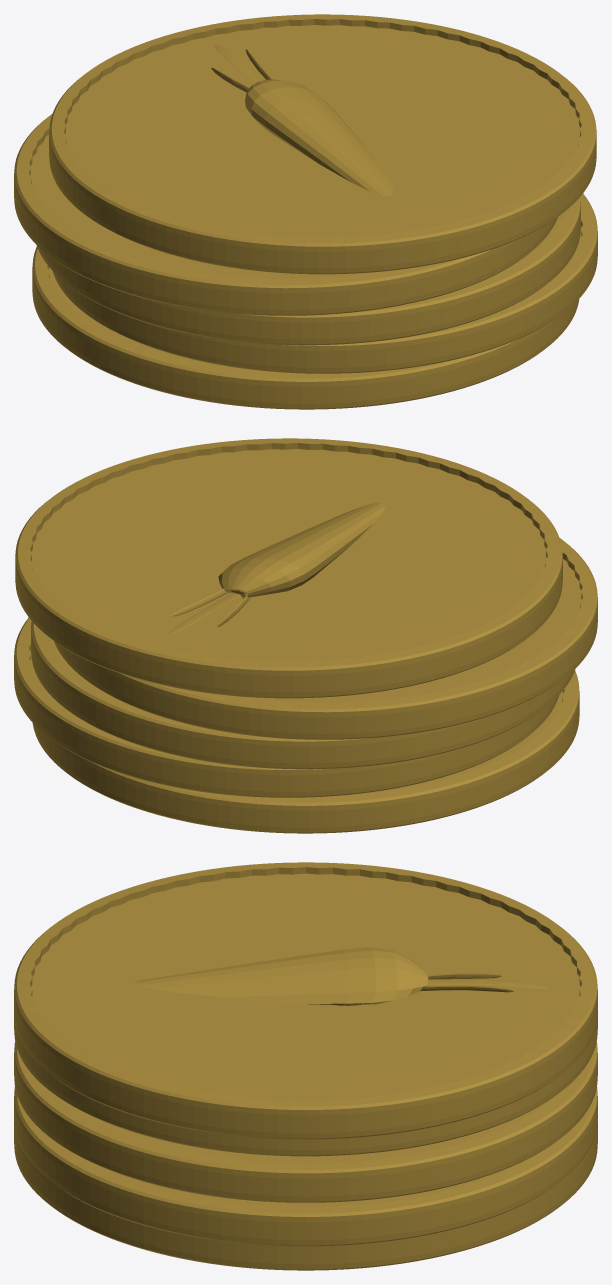
Rendered from Coins.fbx.
3 renders of one model, top to bottom at view 1: azimuth 30°, elevation 25°; view 2: azimuth 150°, elevation 25°; view 3: azimuth 270°, elevation 25°, orthographic. The views are drawn at different scales.
Visible parts, largest first — view 1: Cylinder.005, Cylinder.004, Cylinder, Cylinder.003, Cylinder.002; view 2: Cylinder.005, Cylinder.004, Cylinder, Cylinder.003, Cylinder.002; view 3: Cylinder.005, Cylinder.003, Cylinder.002, Cylinder, Cylinder.004.
Boxes of the visible parts, x1,y1,x2,y2 form: Cylinder.005: (49,14,596,274); Cylinder.004: (14,114,557,315); Cylinder: (32,246,579,409); Cylinder.003: (36,197,580,345); Cylinder.002: (52,193,597,373); Cylinder.005: (15,438,562,698); Cylinder.004: (54,538,597,739); Cylinder: (32,670,579,833); Cylinder.003: (31,621,575,769); Cylinder.002: (14,617,559,797); Cylinder.005: (14,862,597,1139); Cylinder.003: (14,1041,597,1202); Cylinder.002: (14,1087,597,1246); Cylinder: (14,1120,597,1270); Cylinder.004: (14,1013,597,1156).
Bounding box in the file's own units: 215 × 73.88 × 200.
